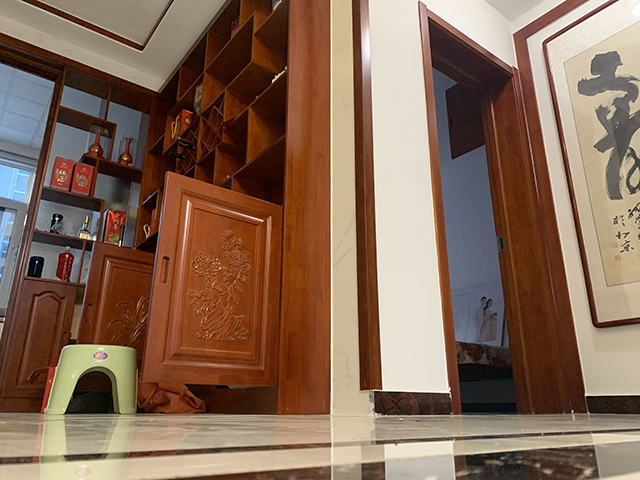cabinet: (136, 174, 329, 415)
stool: (43, 344, 139, 416)
